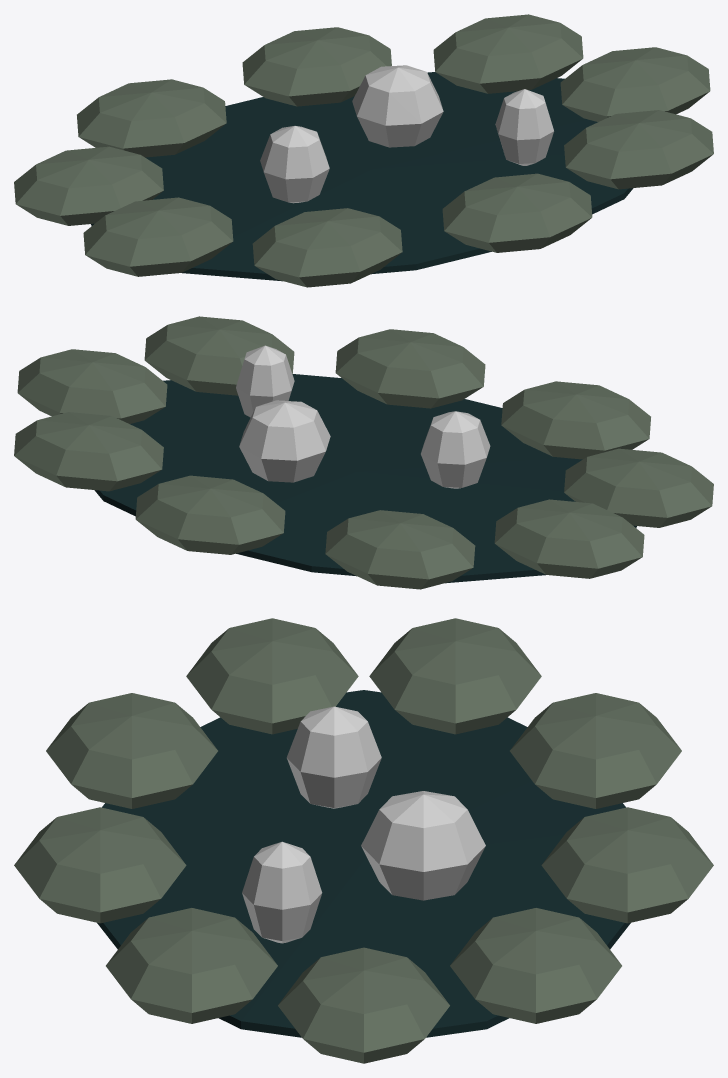
File: methane_crater_b.obj
3 renders of one model, top to bottom at view 1: azimuth 30°, elevation 25°; view 2: azimuth 150°, elevation 25°; view 3: azimuth 270°, elevation 25°, orthographic. The views are drawn at different scales.
Visible parts, largest first — view 1: pool, rim_1, rim_3, rim_4, rim_2, rim_8, rim_6, rim_7, rim_5, rim_0, dome_1, dome_0 (+1 smaller); view 2: pool, rim_6, rim_8, rim_5, rim_2, rim_7, rim_3, rim_4, rim_0, rim_1, dome_1, dome_0 (+1 smaller); view 3: pool, rim_2, rim_5, rim_7, rim_3, rim_6, rim_0, rim_1, rim_8, rim_4, dome_1, dome_0 (+1 smaller).
Boxes of the visible parts, x1,y1,x2,y2 form: pool: (91, 72, 633, 281); rim_1: (564, 110, 713, 189); rim_3: (252, 208, 402, 287); rim_4: (83, 197, 233, 276); rim_2: (442, 173, 592, 252); rim_8: (433, 14, 583, 93); rim_6: (77, 79, 226, 157); rim_7: (242, 27, 391, 106); rim_5: (14, 146, 163, 225); rim_0: (560, 47, 710, 121); dome_1: (352, 65, 443, 147); dome_0: (260, 126, 329, 203); pool: (94, 374, 636, 583); rim_6: (325, 510, 475, 589); rim_8: (14, 412, 163, 491); rim_5: (494, 499, 644, 578); rim_2: (335, 329, 485, 408); rim_7: (135, 475, 285, 554); rim_3: (501, 381, 650, 459); rim_4: (564, 448, 713, 527); rim_0: (17, 349, 167, 423); rim_1: (144, 316, 294, 395); dome_1: (239, 400, 330, 482); dome_0: (421, 411, 490, 488); pool: (97, 690, 630, 1037); rim_2: (14, 807, 186, 923); rim_5: (369, 618, 541, 734); rim_7: (541, 807, 713, 923); rim_3: (46, 693, 217, 808); rim_6: (510, 693, 681, 808); rim_0: (278, 947, 449, 1063); rim_1: (106, 908, 277, 1023); rim_8: (450, 908, 621, 1023); rim_4: (186, 618, 358, 734); dome_1: (361, 791, 485, 900); dome_0: (286, 706, 381, 808).
Bounding box in the file's own units: 6.74 × 0.84 × 4.71.
